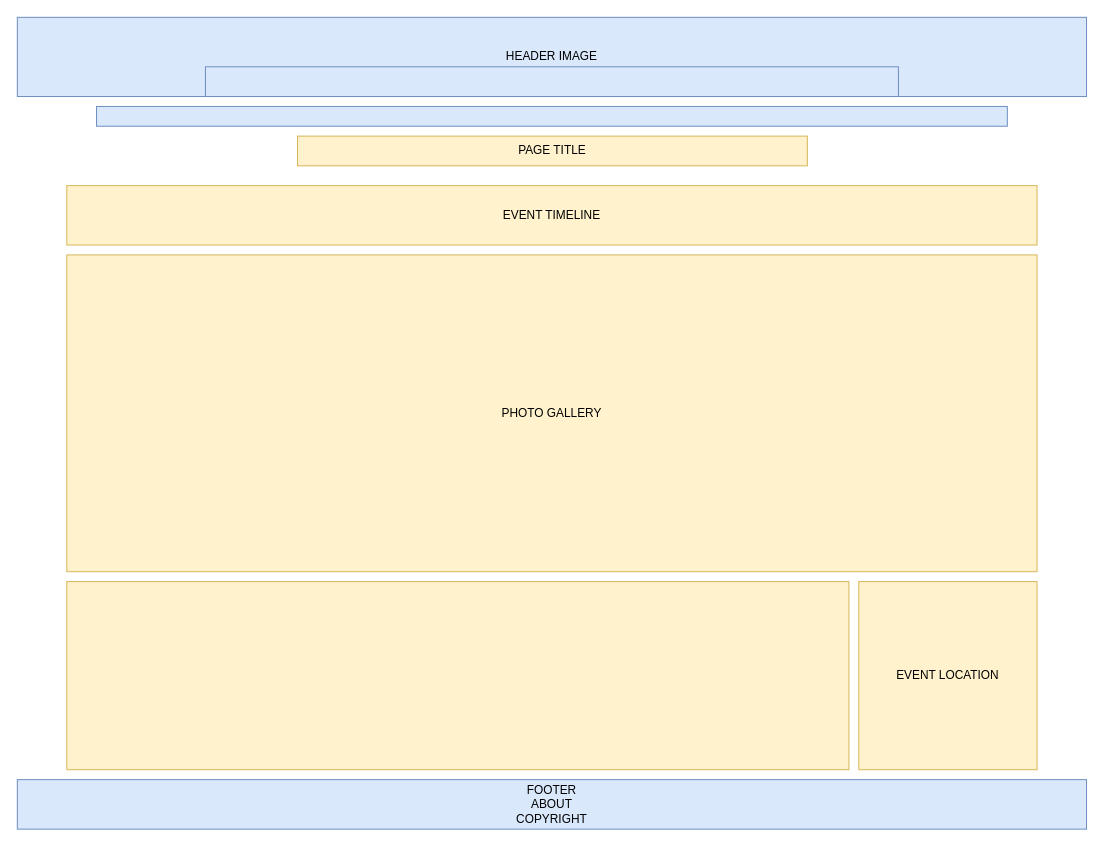
Image size: 1104x846. Some labels were removed from this diagram. Here are the shapes that lost their labels. From the top down, the centre of each, then its label:
At [551,81]: "SITE TITLE".
At [551,115]: "NAV LINKS".
At [457,675]: "EVENT DETAILS".
